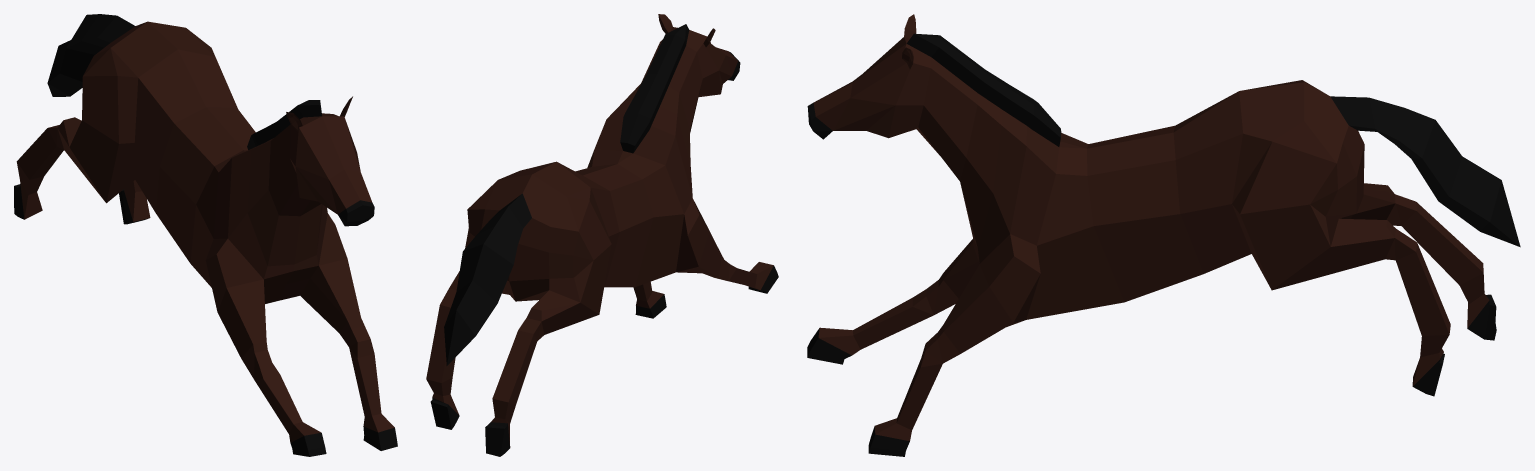
File: Horse_000019.obj
The picture shows the model from 3 angles, left to right: view 1: azimuth 30°, elevation 25°; view 2: azimuth 150°, elevation 25°; view 3: azimuth 270°, elevation 25°; orthographic projection. The views are drawn at different scales.
Visible parts, largest first — view 1: Horse_Cylinder; view 2: Horse_Cylinder; view 3: Horse_Cylinder.
Part boxes in pixels (x1,y1,x2,y2): Horse_Cylinder: [14, 14, 397, 456]; Horse_Cylinder: [426, 14, 778, 456]; Horse_Cylinder: [807, 14, 1520, 456].
Bounding box in the file's own units: 2.56 × 6.22 × 10.26.
